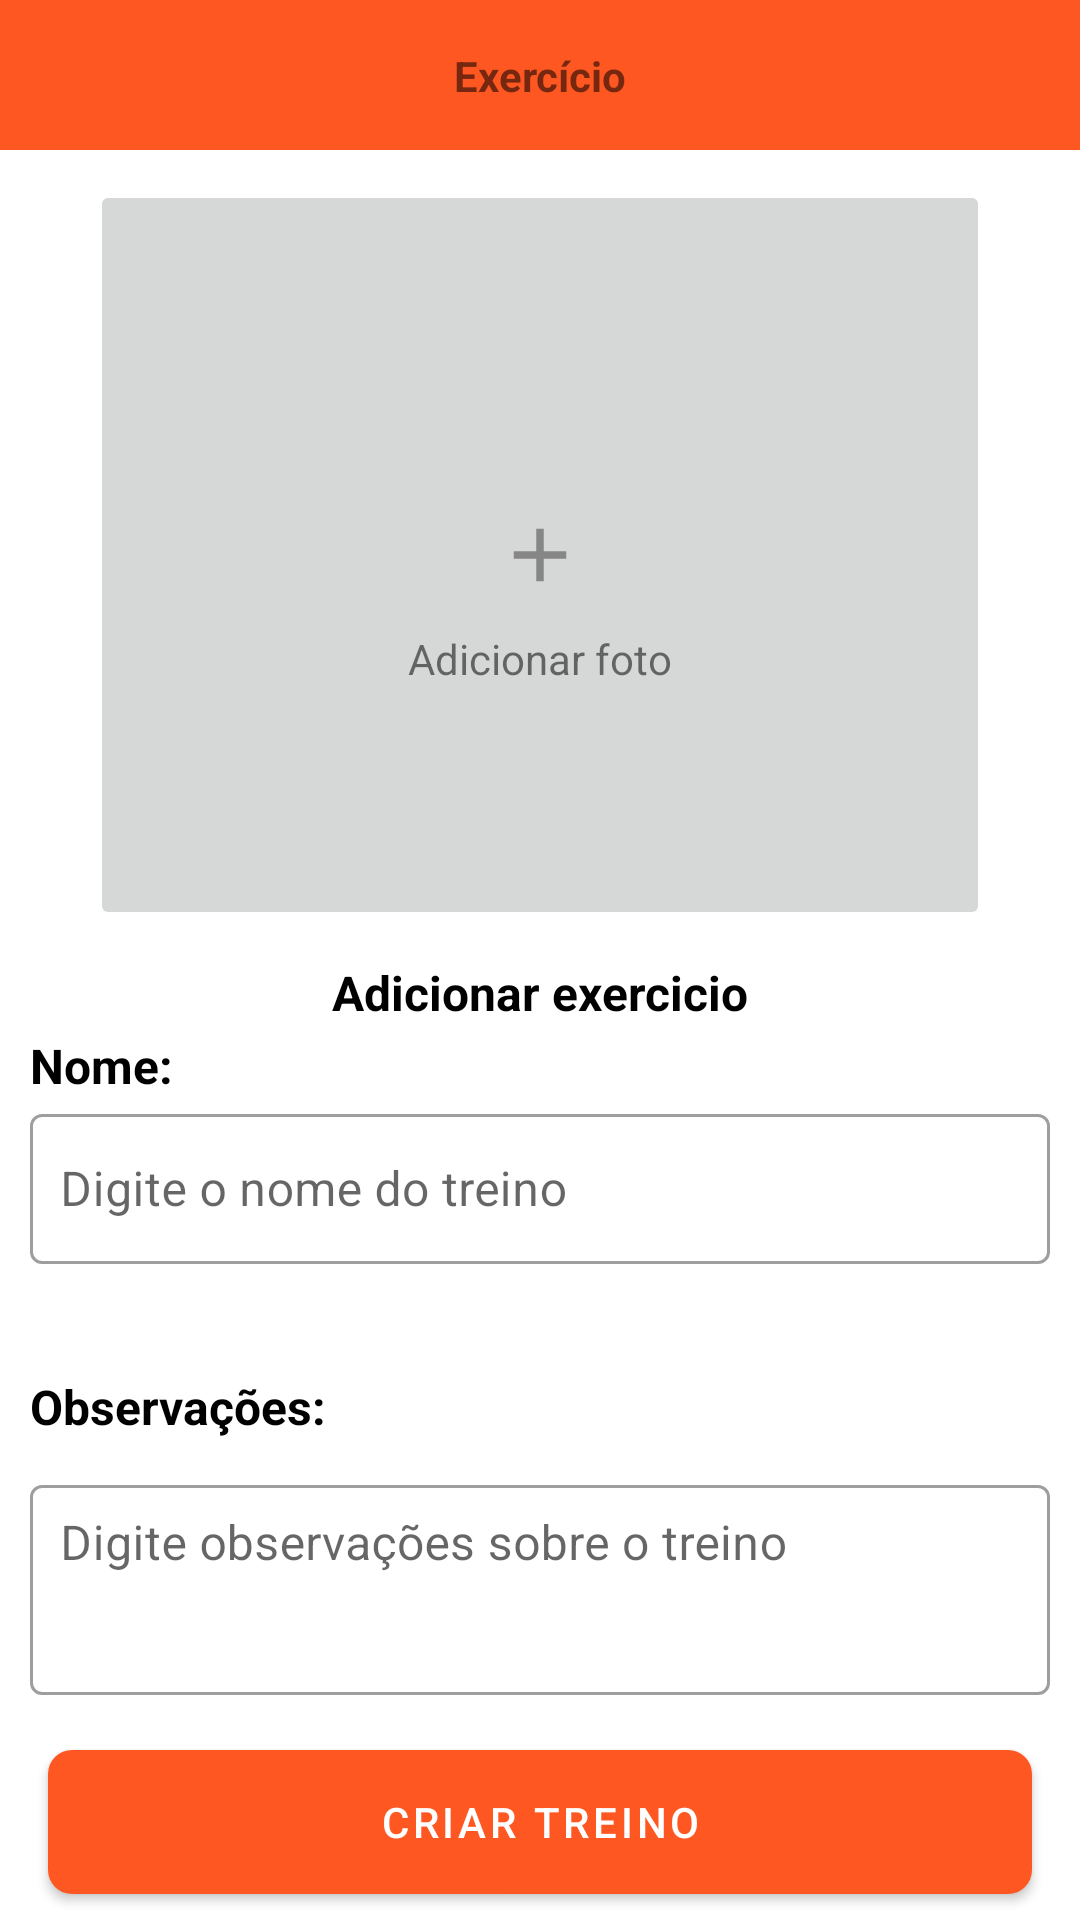

Where to tap for icons on this 1080w x 1920h app screen, as [x,y]:
add: [540,555]
